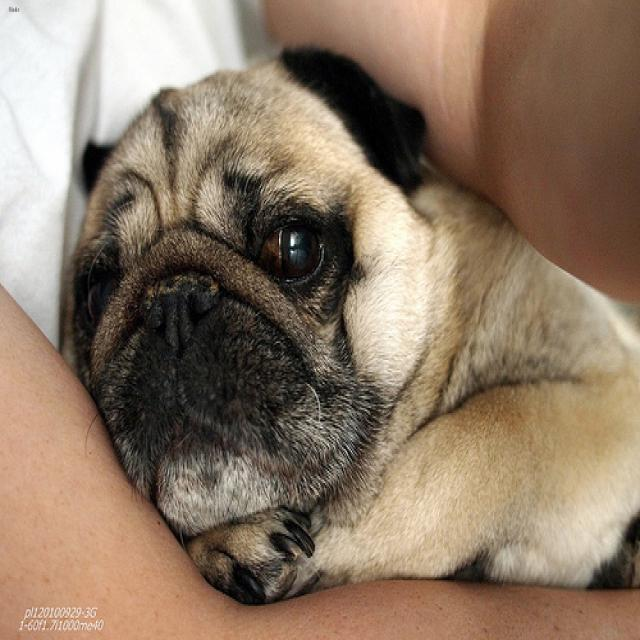dog-pug: (49, 38, 637, 620)
